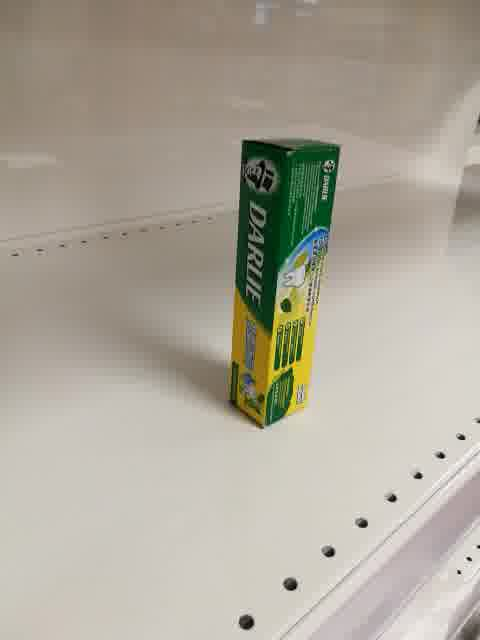toothpaste: (227, 139, 340, 429)
